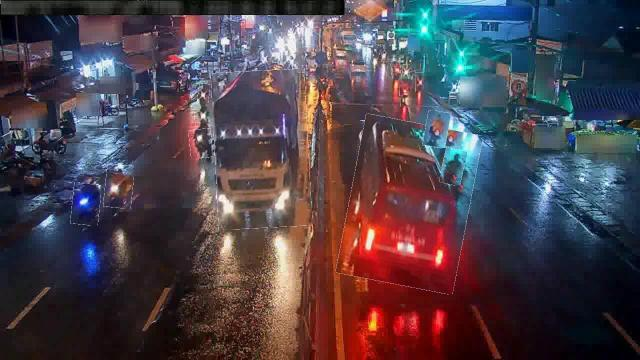Bike: (105, 164, 134, 208), (72, 183, 100, 225), (440, 148, 466, 186), (424, 110, 450, 148), (190, 128, 212, 158), (34, 132, 61, 154), (194, 102, 213, 126), (401, 85, 412, 107), (198, 83, 210, 103), (391, 61, 401, 79), (416, 72, 424, 92), (402, 65, 410, 81)
Bus: (344, 118, 476, 290)
Truck: (212, 71, 310, 229)
